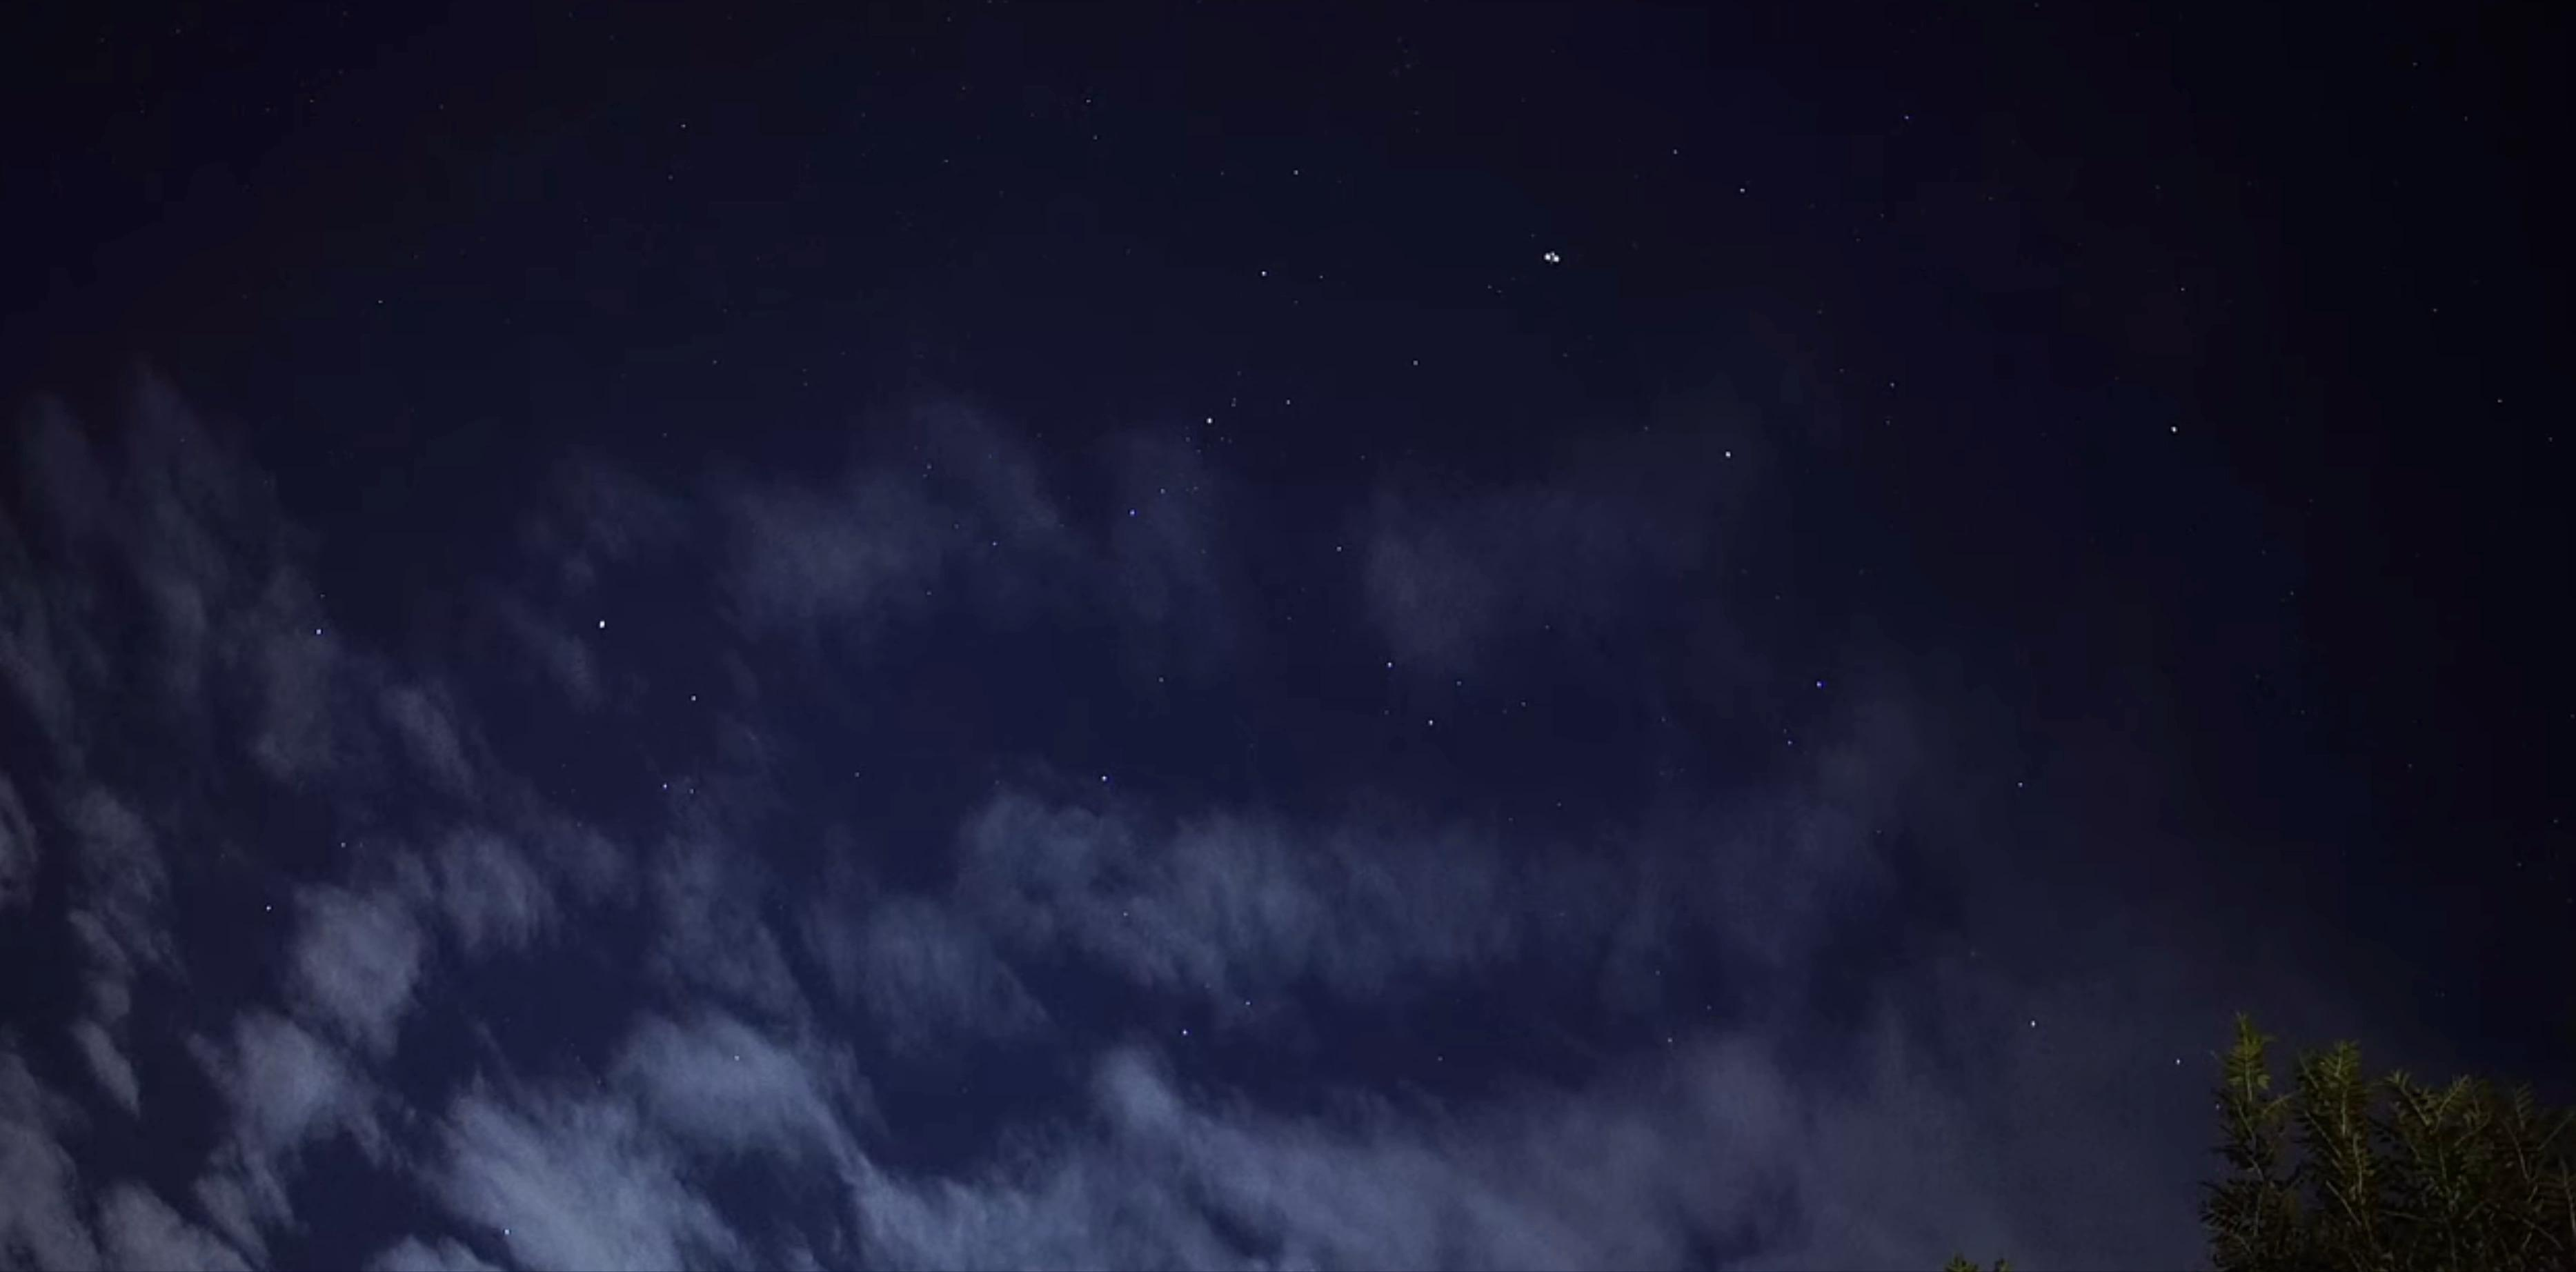Plane: (1526, 243, 1582, 273)
